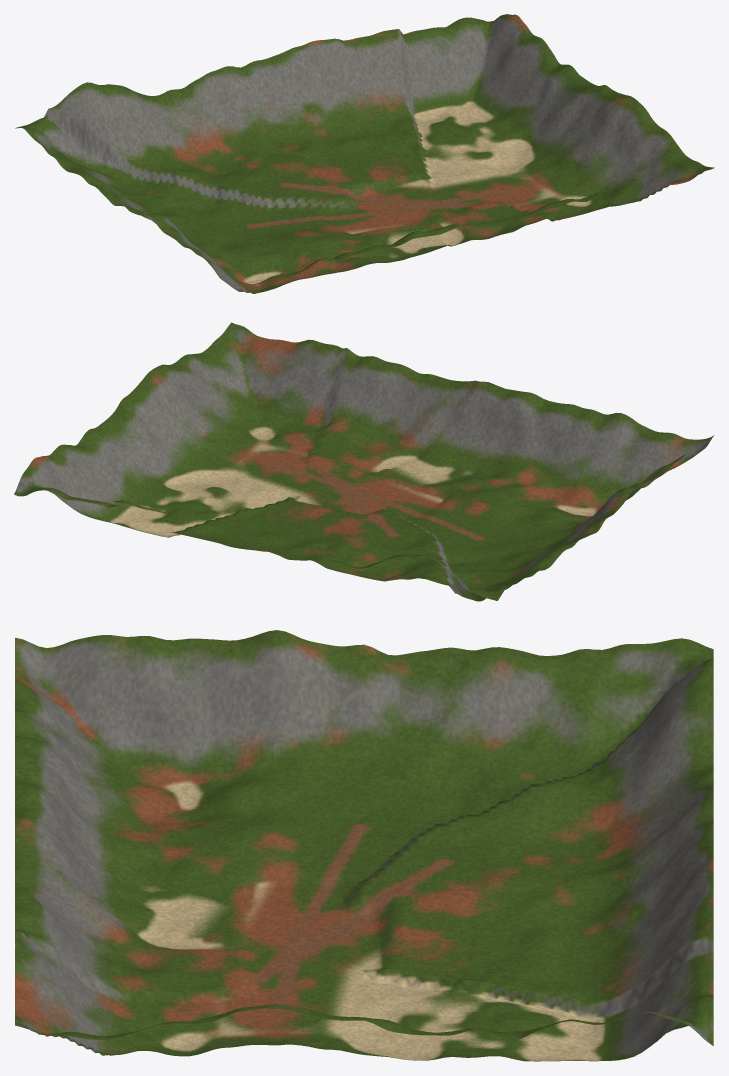
Rendered from SM_Art_Terrain_L_WarCurrent.gltf.
The picture shows the model from 3 angles, top to bottom: view 1: azimuth 30°, elevation 25°; view 2: azimuth 150°, elevation 25°; view 3: azimuth 270°, elevation 25°; orthographic projection. The views are drawn at different scales.
Visible parts, largest first — view 1: SM_Art_Terrain_L_WarCurrent; view 2: SM_Art_Terrain_L_WarCurrent; view 3: SM_Art_Terrain_L_WarCurrent.
Boxes of the visible parts, left/top/right/bottom form: SM_Art_Terrain_L_WarCurrent: left=15, top=14, right=714, bottom=293; SM_Art_Terrain_L_WarCurrent: left=14, top=322, right=714, bottom=601; SM_Art_Terrain_L_WarCurrent: left=15, top=630, right=713, bottom=1061.
Size of the model in its own units: 226 by 36.5 by 177.
Materials: 2 (2 with a texture image).
